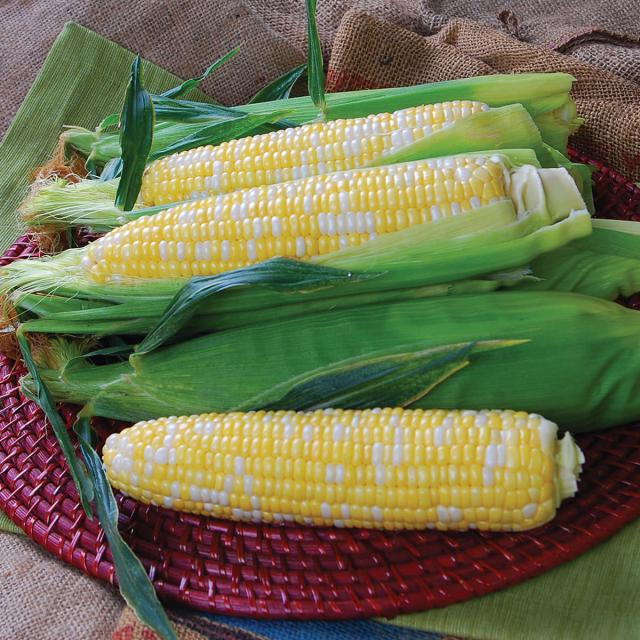Corn ear: (98, 403, 568, 532), (306, 158, 504, 276), (91, 195, 301, 296), (302, 102, 482, 174), (134, 128, 309, 188)
